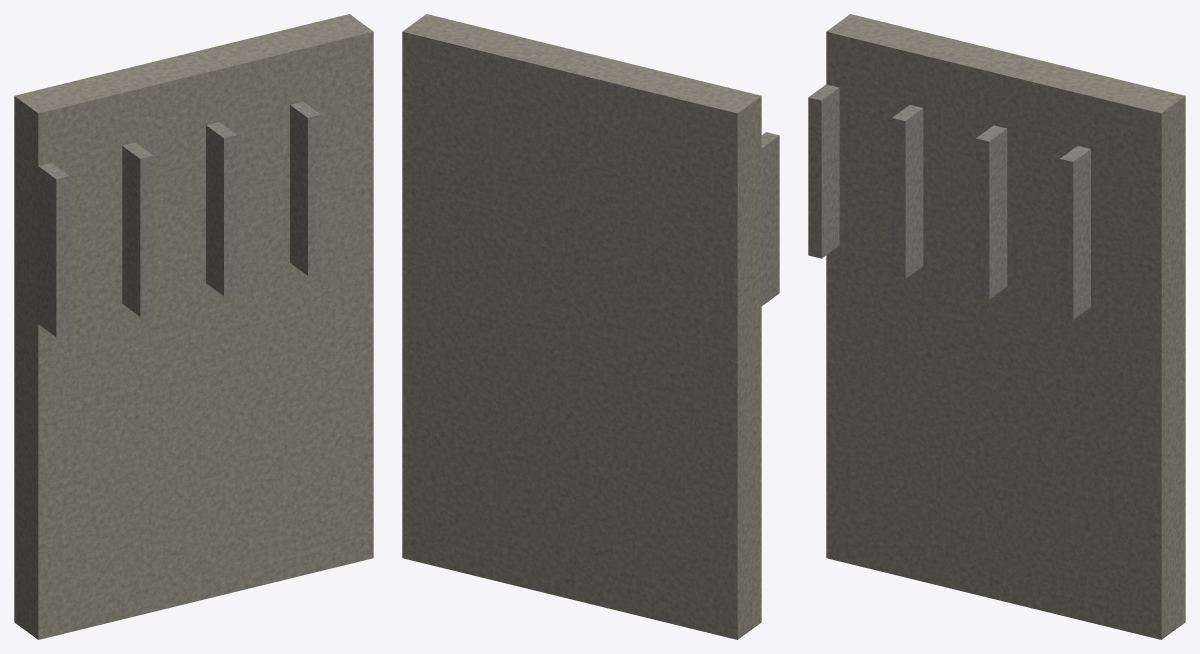
The model's file is METL21RW_lod2.glb.
3 renders of one model, left to right at view 1: azimuth 30°, elevation 25°; view 2: azimuth 150°, elevation 25°; view 3: azimuth 330°, elevation 25°, orthographic.
Visible parts, largest first — view 1: METL21RW_LOD2; view 2: METL21RW_LOD2; view 3: METL21RW_LOD2.
Part boxes in pixels (x1=…): METL21RW_LOD2: x1=14, y1=14, x2=373, y2=639; METL21RW_LOD2: x1=402, y1=14, x2=779, y2=639; METL21RW_LOD2: x1=808, y1=14, x2=1185, y2=639.
Bounding box in the file's own units: 2 × 3 × 0.435.
2 materials, 2 textured.
